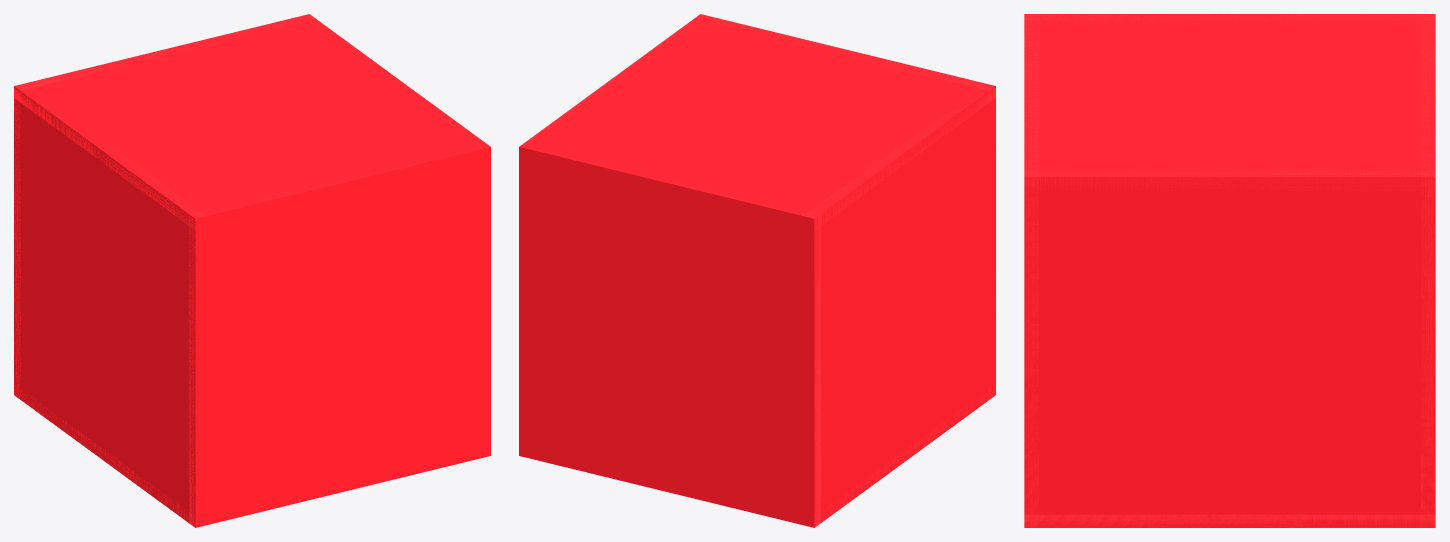
The model's file is red-glass-v1.glb.
3 renders of one model, left to right at view 1: azimuth 30°, elevation 25°; view 2: azimuth 150°, elevation 25°; view 3: azimuth 270°, elevation 25°, orthographic. The views are drawn at different scales.
Parts seen in each view (by area): view 1: wall/red-glass-v1; view 2: wall/red-glass-v1; view 3: wall/red-glass-v1.
Boxes of the visible parts, <box> form: wall/red-glass-v1: <box>14,14,490,527</box>; wall/red-glass-v1: <box>519,14,995,527</box>; wall/red-glass-v1: <box>1024,14,1435,527</box>.
Bounding box in the file's own units: 0.94 × 0.94 × 1.
